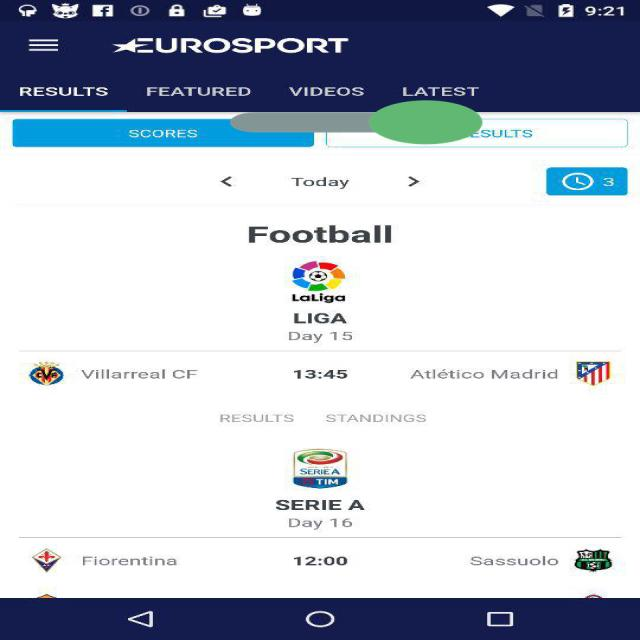social proof: (230, 74, 482, 172)
